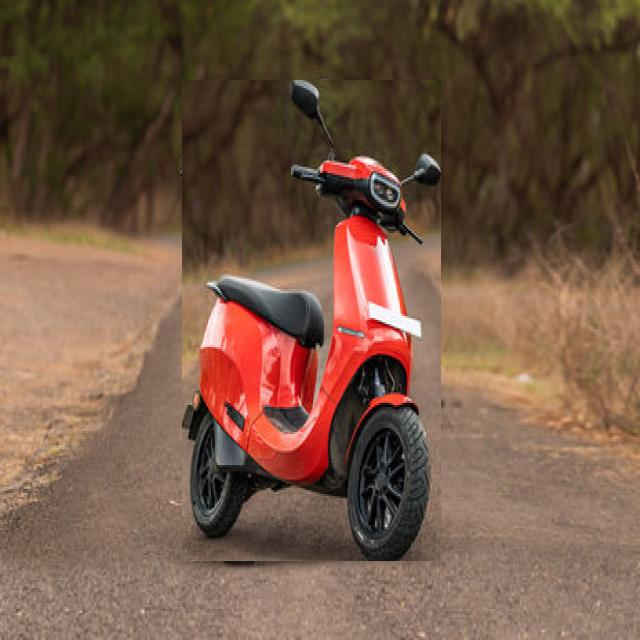motorcycle: (182, 81, 440, 561)
